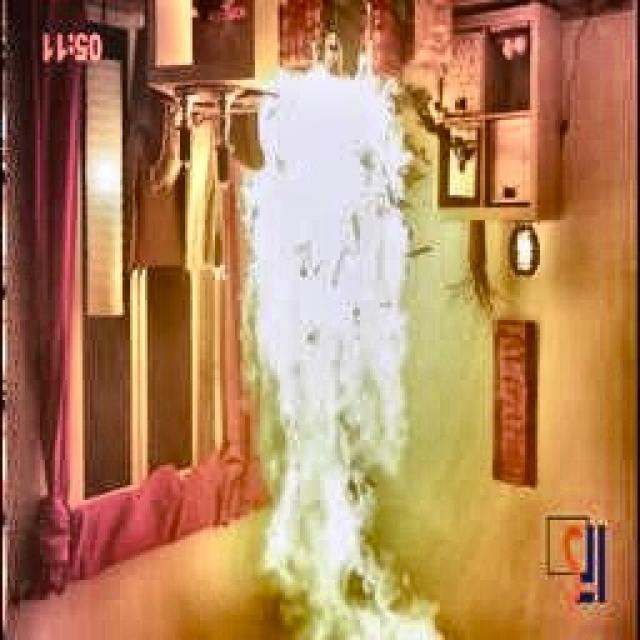fire: (222, 50, 472, 632)
